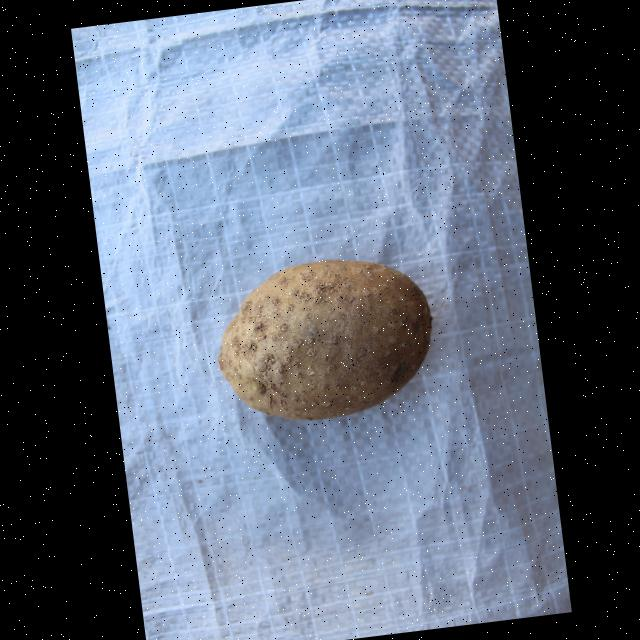Diseased-fungal potato: (206, 250, 444, 433)
